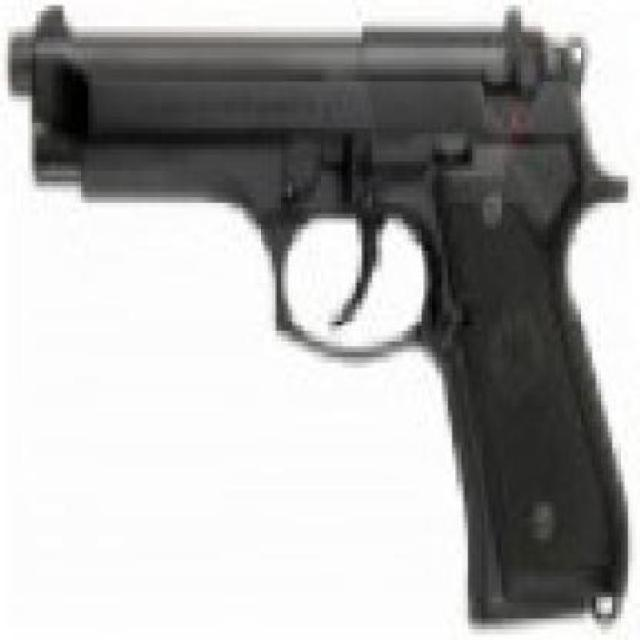gun: (8, 11, 628, 624)
